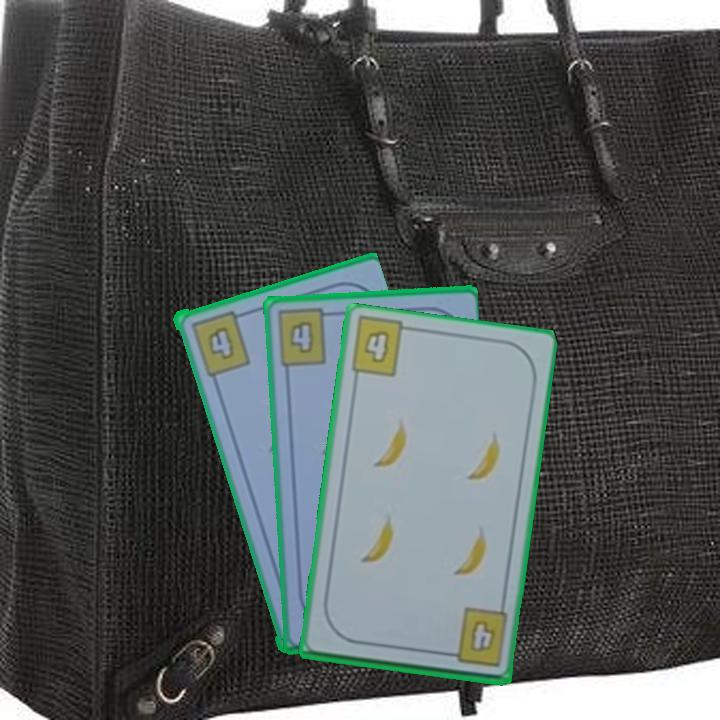4b: (186, 306, 253, 378), (439, 605, 510, 670), (273, 305, 337, 369), (360, 326, 392, 366)
